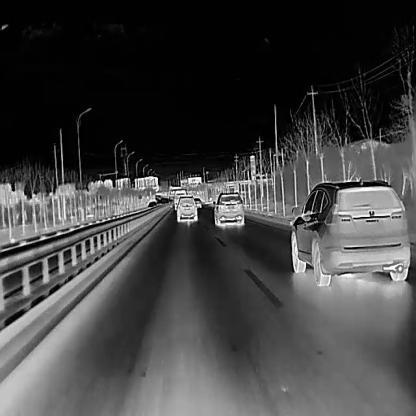car: (288, 176, 409, 286), (211, 190, 244, 226), (173, 194, 197, 223), (173, 189, 186, 210), (192, 197, 201, 208)
